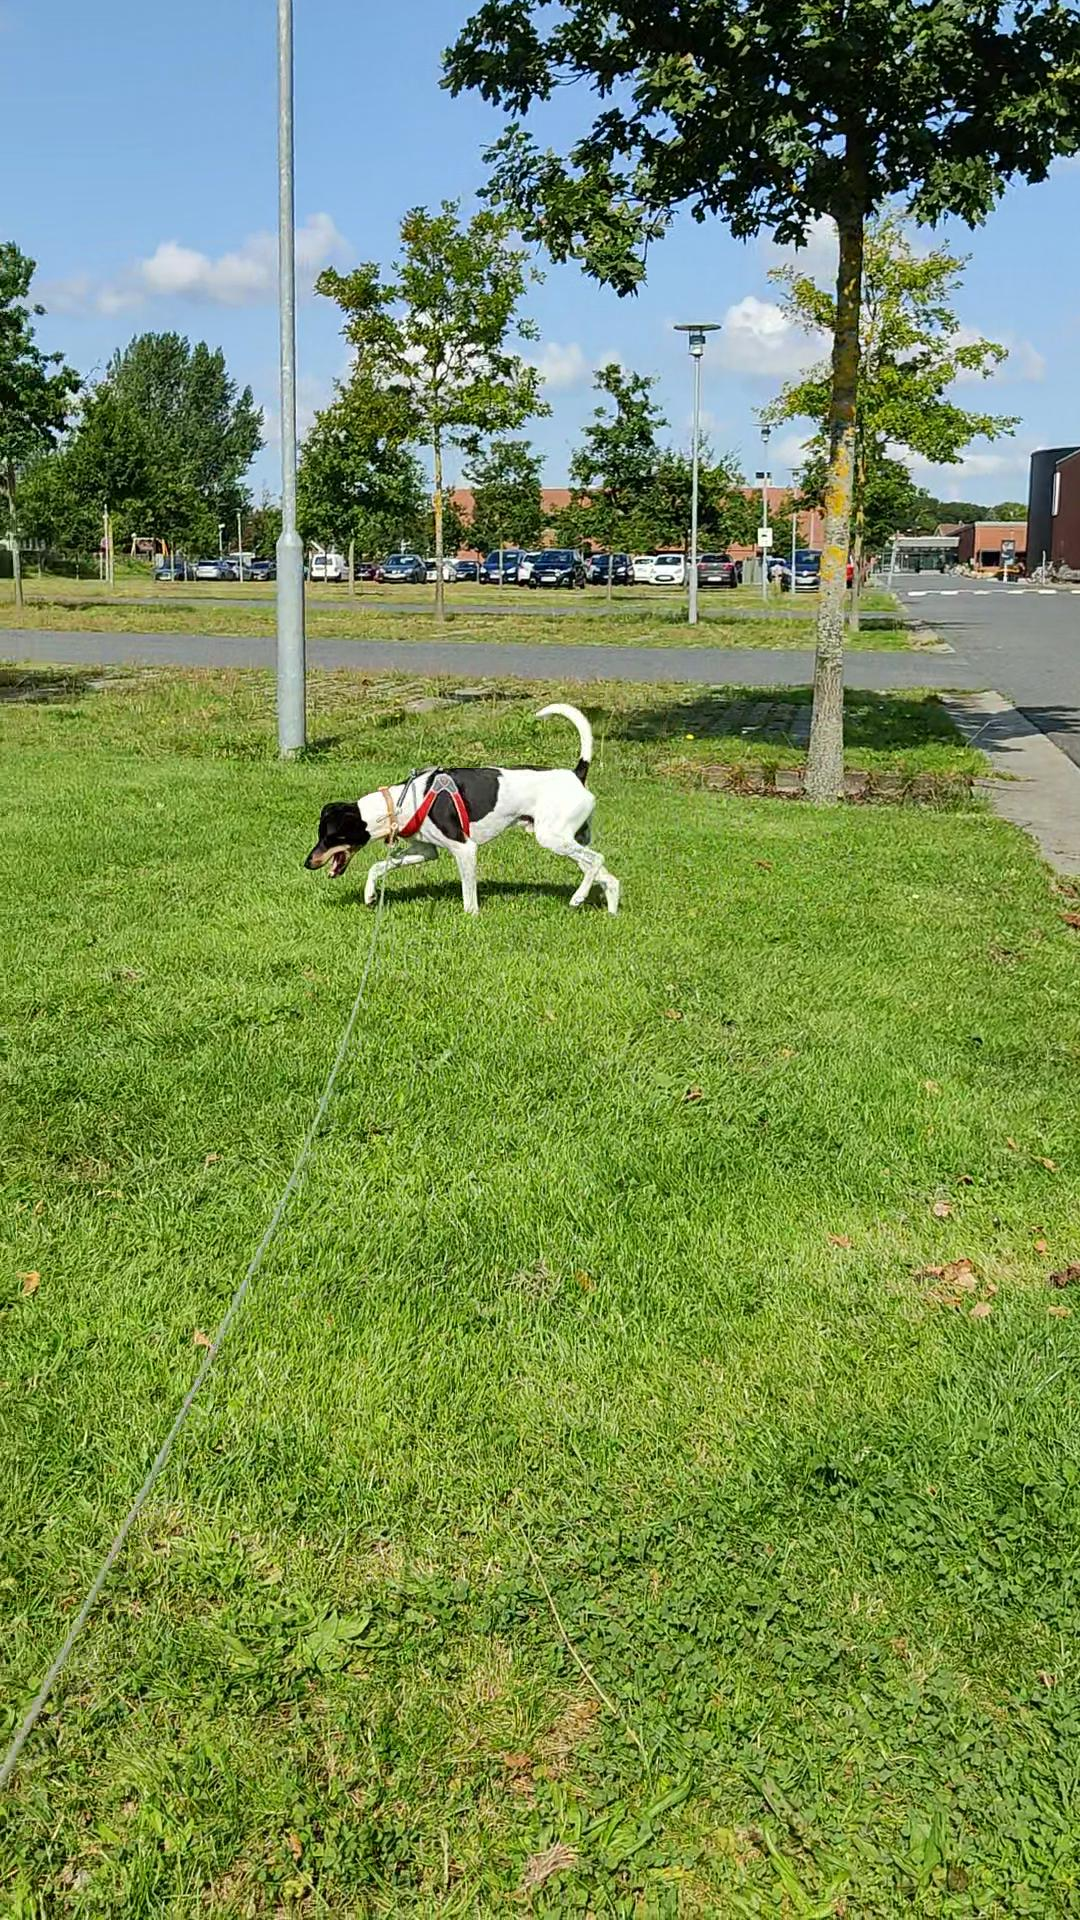Dog: (293, 695, 632, 916)
